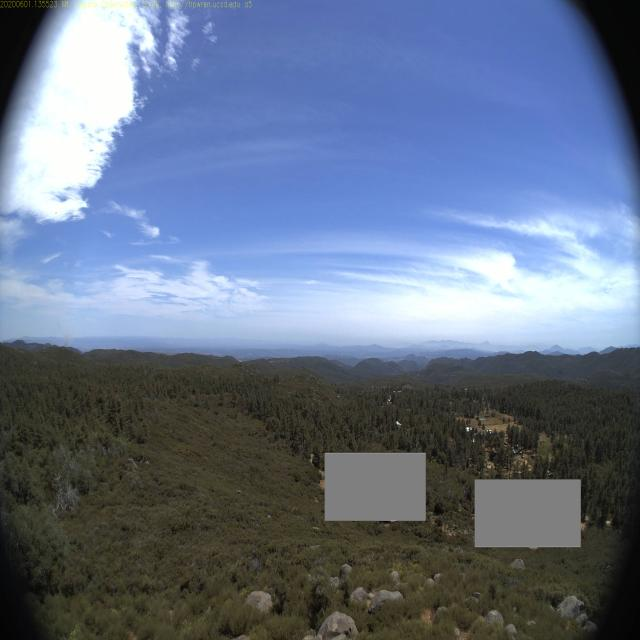smoke: (56, 310, 78, 350)
